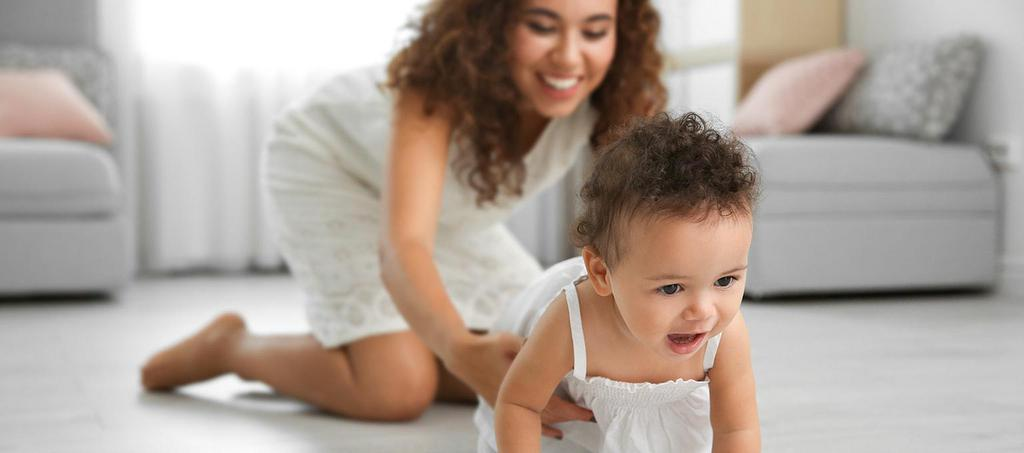child: (447, 138, 824, 453)
